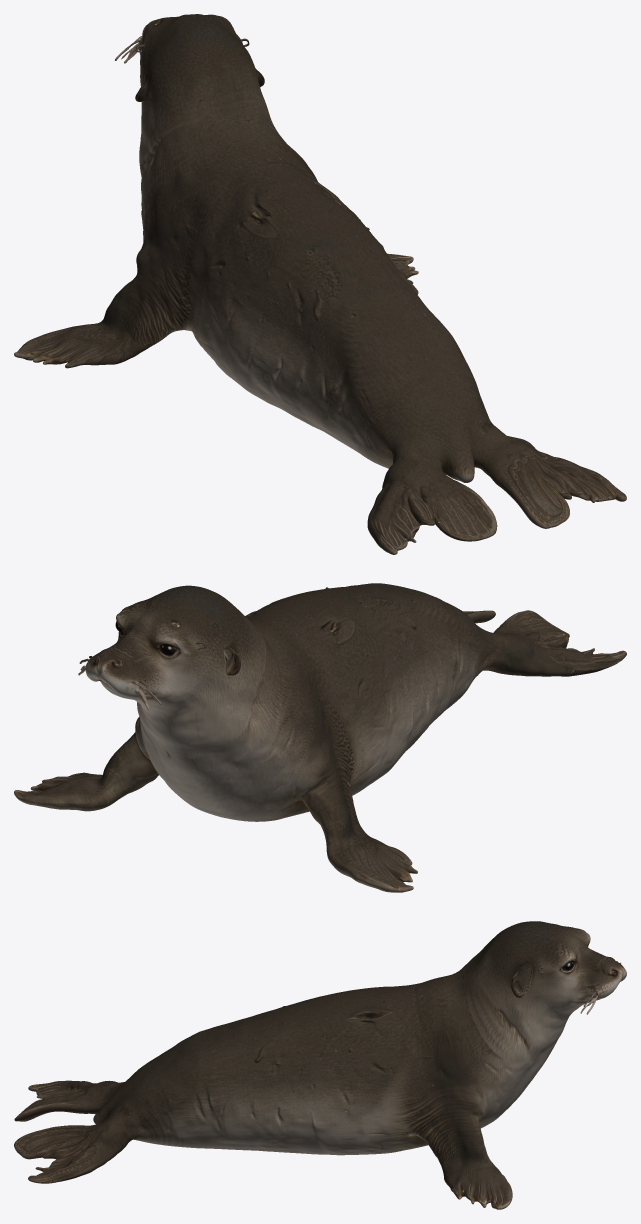
Rendered from monk-seal.glb.
The picture shows the model from 3 angles, top to bottom: view 1: azimuth 30°, elevation 25°; view 2: azimuth 150°, elevation 25°; view 3: azimuth 270°, elevation 25°; orthographic projection. The views are drawn at different scales.
Visible parts, largest first — view 1: tripo_node_9487e944-fd1e-42e3-a514-bda925d53acb; view 2: tripo_node_9487e944-fd1e-42e3-a514-bda925d53acb; view 3: tripo_node_9487e944-fd1e-42e3-a514-bda925d53acb.
Part boxes in pixels (bbox=[...]): tripo_node_9487e944-fd1e-42e3-a514-bda925d53acb: bbox=[14, 14, 626, 554]; tripo_node_9487e944-fd1e-42e3-a514-bda925d53acb: bbox=[14, 583, 626, 892]; tripo_node_9487e944-fd1e-42e3-a514-bda925d53acb: bbox=[14, 921, 626, 1209].
Size of the model in its own units: 0.5963 by 0.3902 by 1.
1 material, 1 textured.
